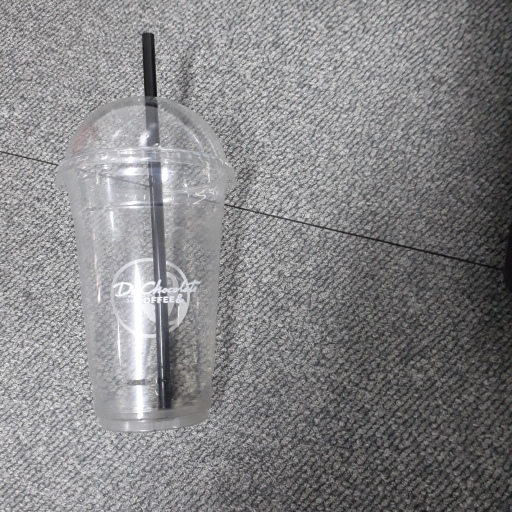Plastic_2: (57, 32, 238, 430)
